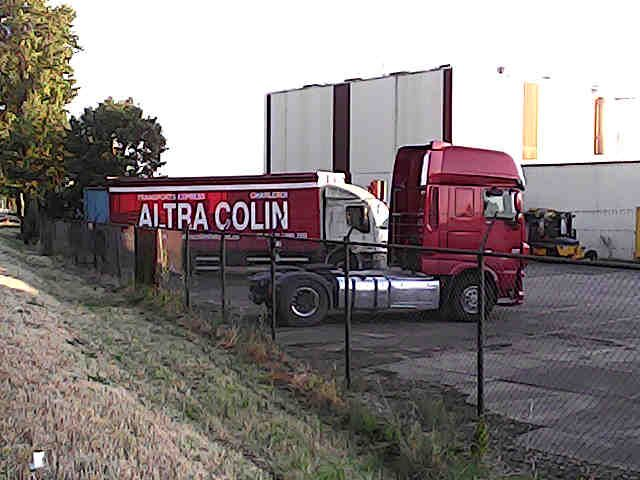whitevan: (349, 142, 528, 320)
